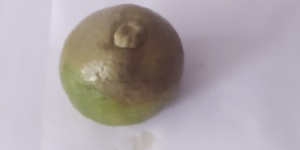BAD: (59, 4, 184, 127)
